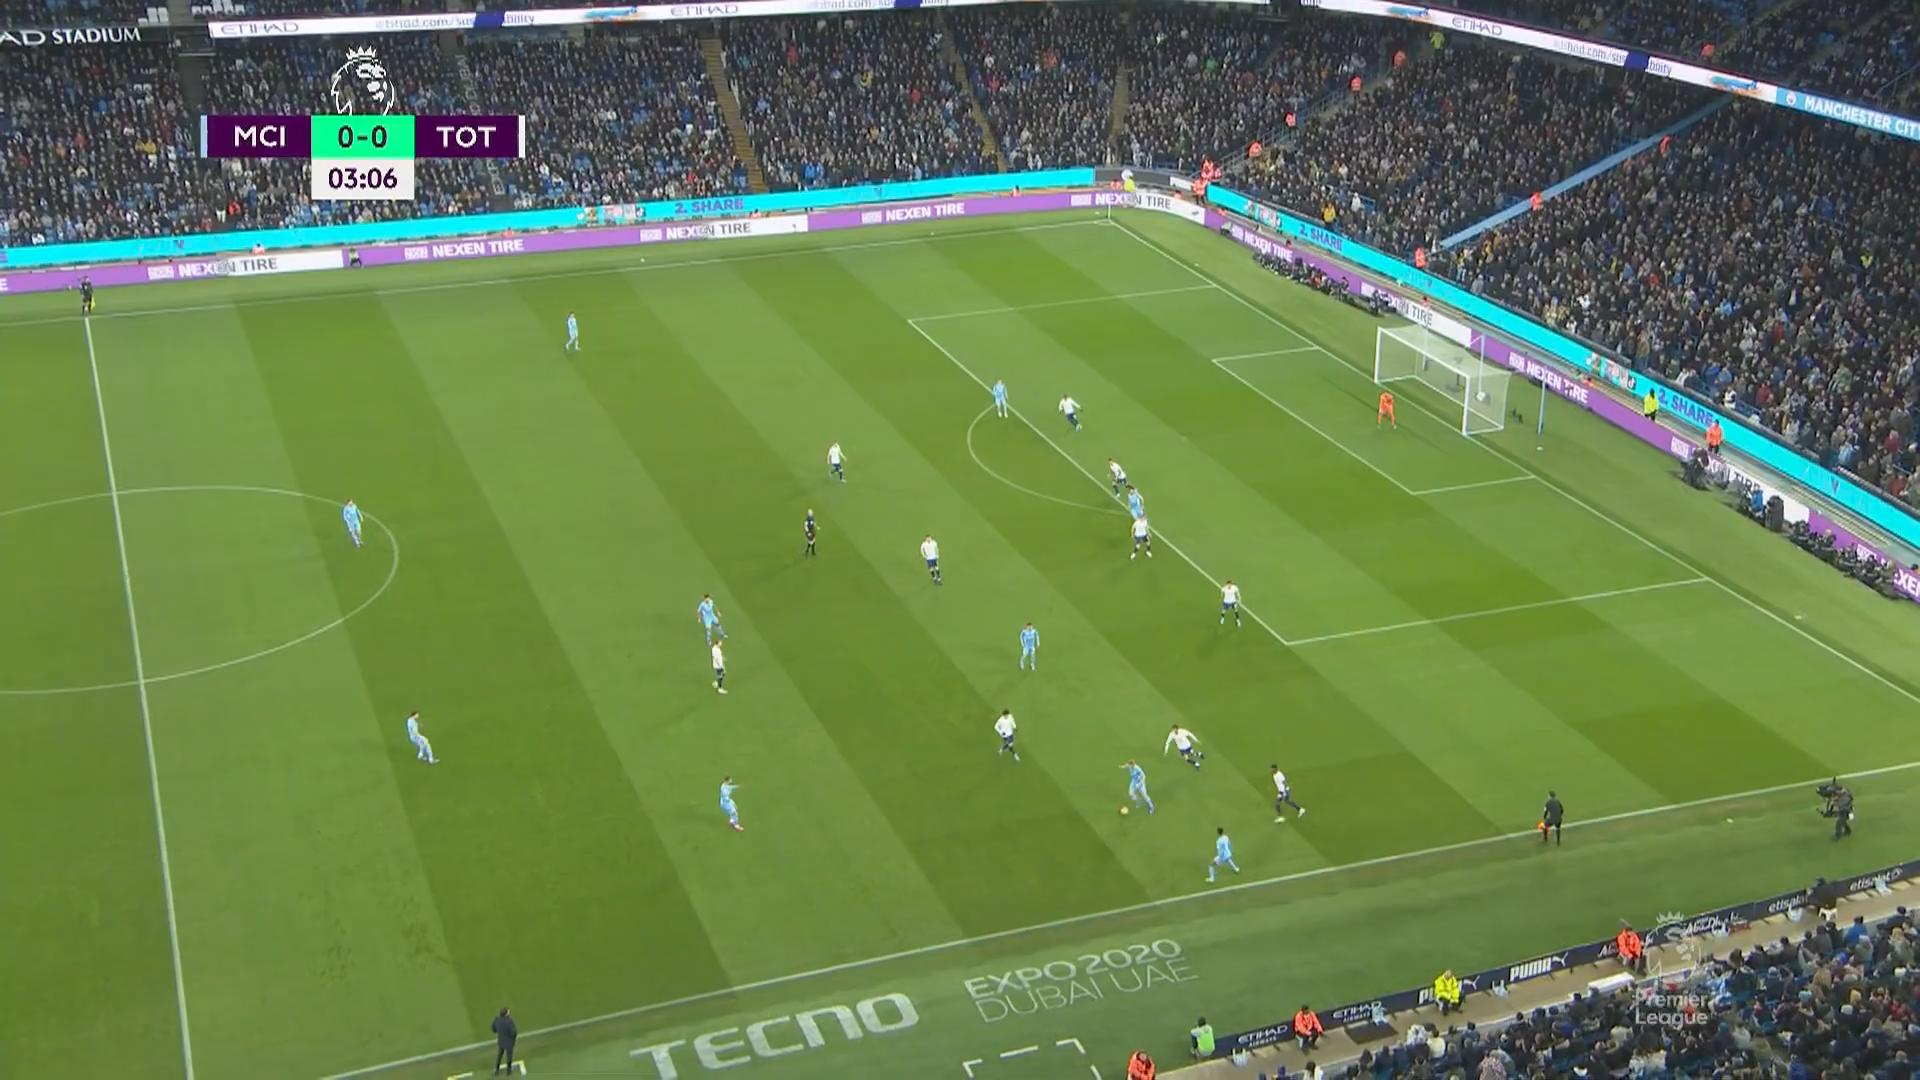ball: (1119, 805, 1129, 816)
goalkeeper: (1375, 388, 1397, 429)
player: (1268, 762, 1306, 822), (1117, 759, 1155, 816), (1204, 826, 1240, 883), (1163, 723, 1204, 770), (404, 710, 438, 764), (696, 591, 727, 646), (993, 707, 1020, 762), (718, 774, 743, 831), (1217, 579, 1242, 628), (919, 533, 942, 584), (341, 497, 364, 547), (1017, 621, 1040, 671), (1128, 513, 1153, 559), (709, 635, 728, 693), (1057, 393, 1082, 432), (1106, 456, 1128, 498), (826, 440, 847, 482), (990, 378, 1008, 419), (1128, 487, 1144, 533), (563, 310, 580, 352)
referee: (1541, 789, 1563, 848), (78, 274, 98, 316), (802, 508, 819, 556)
staff: (489, 1005, 517, 1075)
